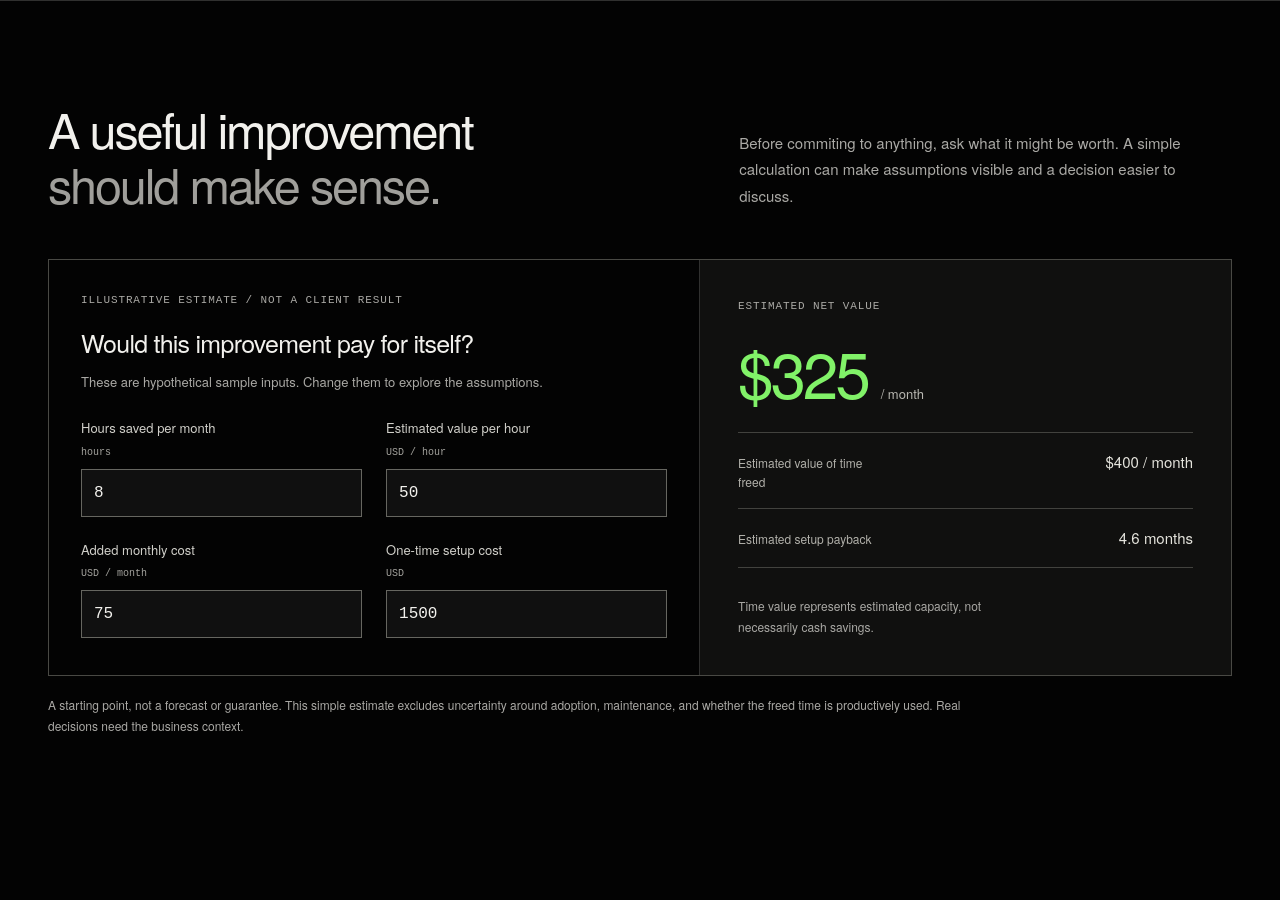
Scenario: illustrative calculator › does not convert an empty field to zero and provides an accessible error
Clear the number field labelled "Hours saved per month hours" at (222, 493), box x1=81 y1=469 x2=362 y2=517
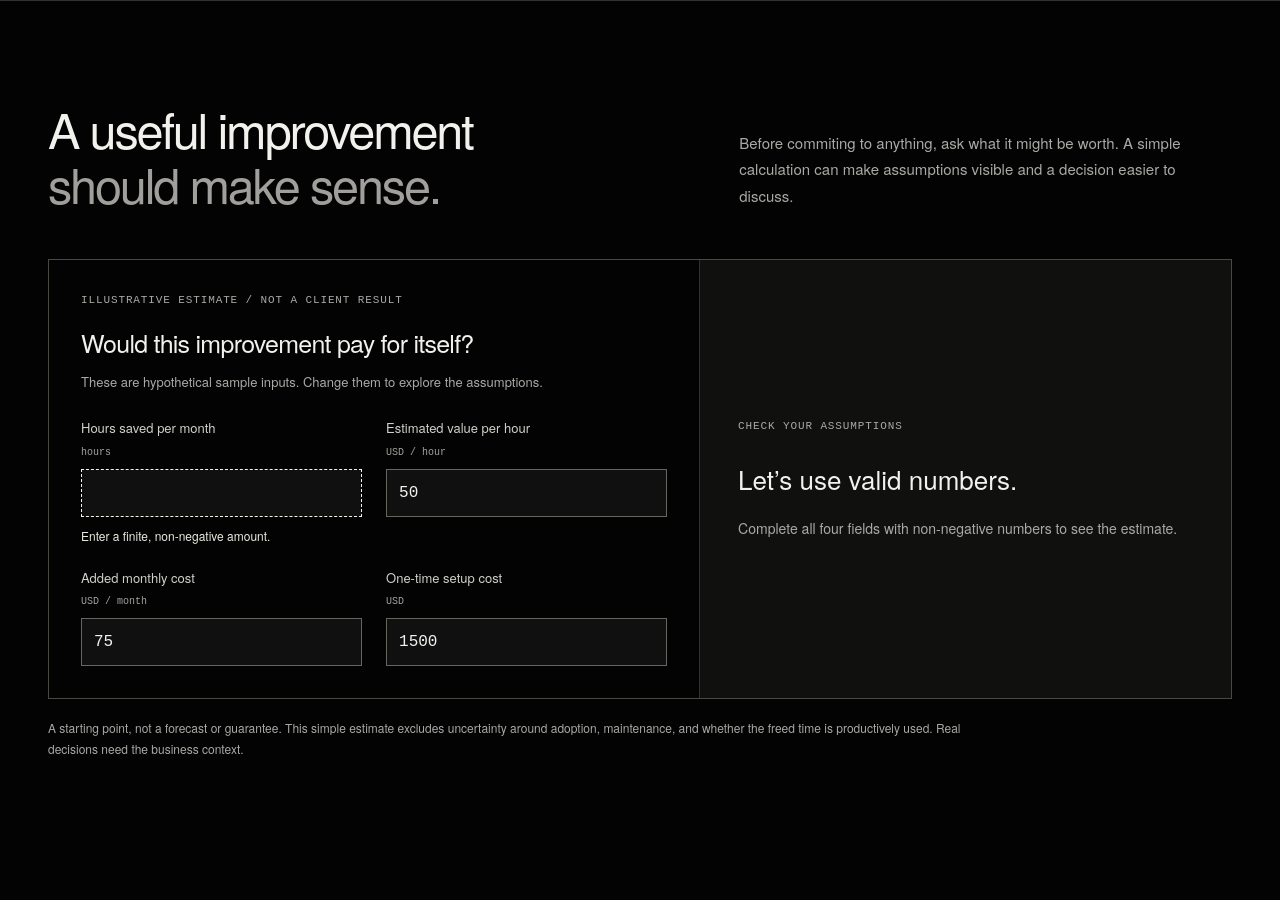
Result: the text with test id "payback" is gone
Type "8" into the number field labelled "Hours saved per month" at (222, 493), box x1=81 y1=469 x2=362 y2=517
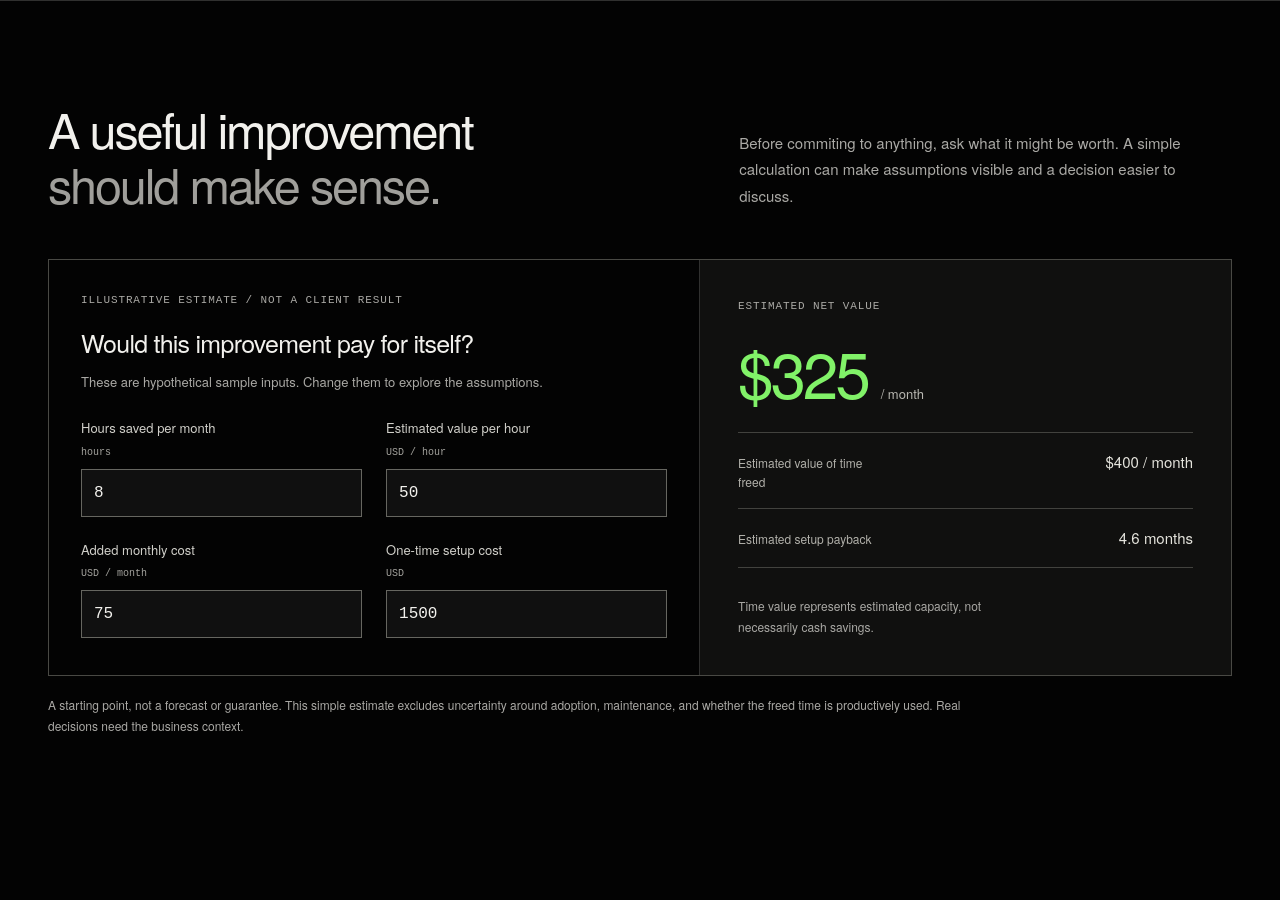
Result: the text with test id "payback" reads "4.6 months" at x1=1119 y1=527 x2=1193 y2=548
